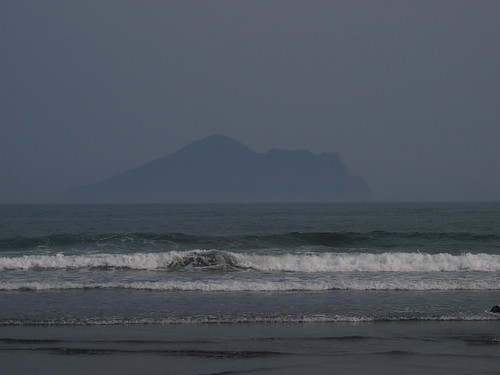turtleIsland: (54, 132, 375, 201)
